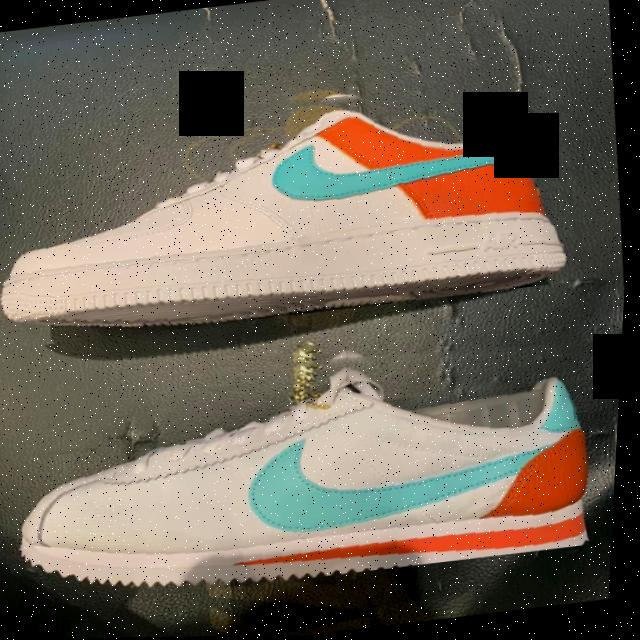shoe: (0, 310, 627, 614), (0, 55, 586, 351)
